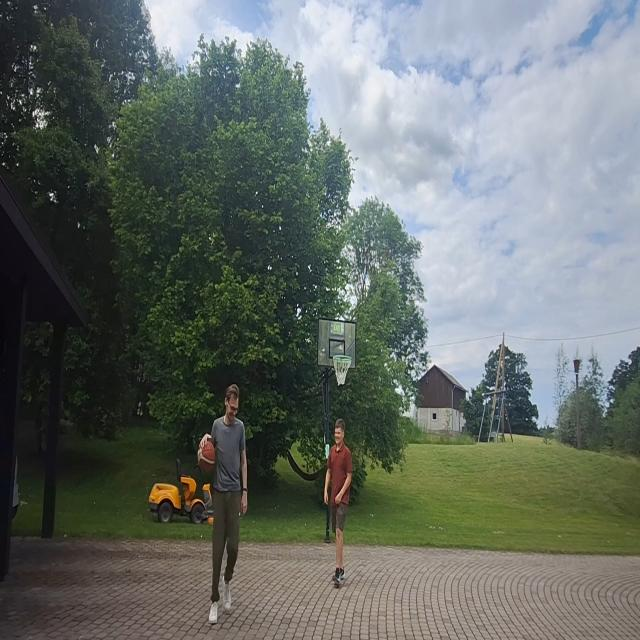ball: (196, 436, 216, 473)
basket: (332, 353, 353, 388)
player: (200, 383, 250, 626), (322, 416, 354, 588)
